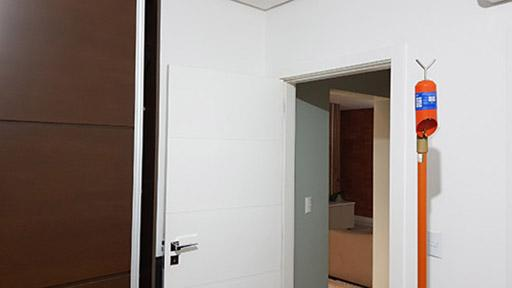Detector_Tensao_Contato: (413, 57, 438, 141)
Vara_Manobra: (414, 135, 430, 288)
